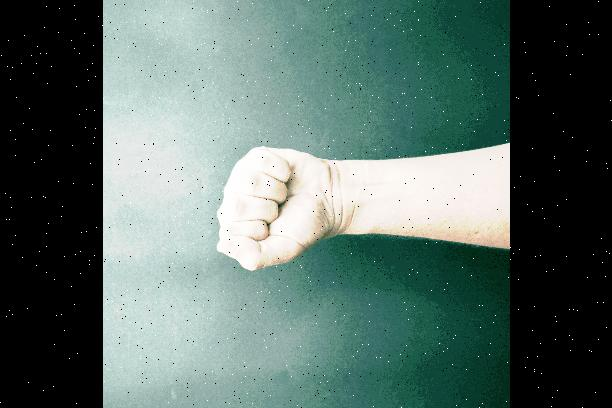Rock: (210, 137, 342, 276)
